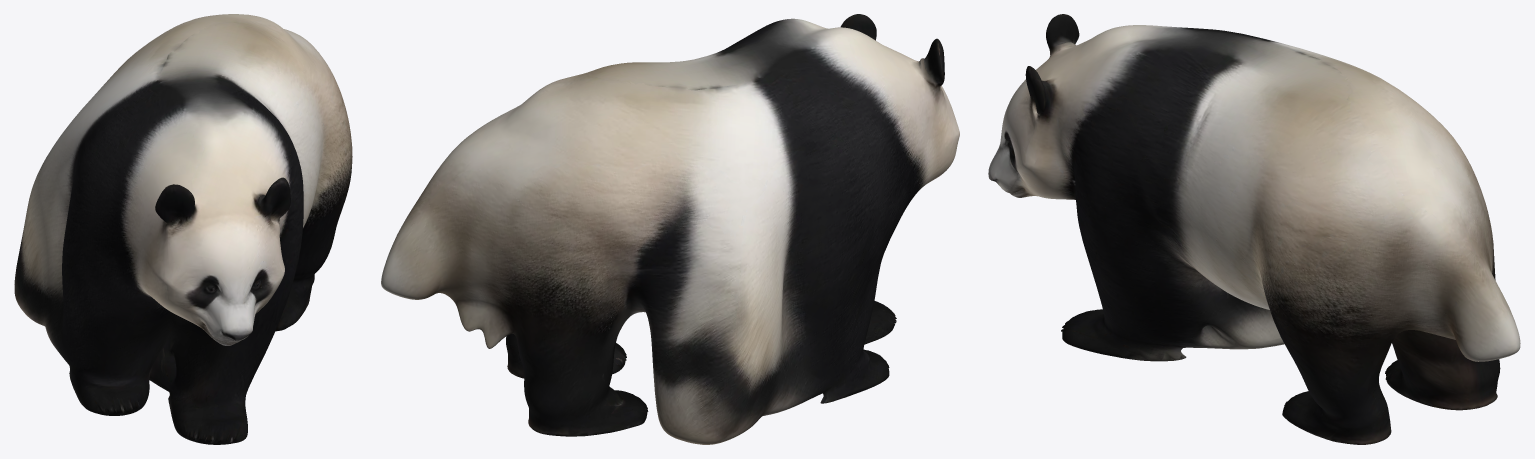
Rendered from giant-panda.glb.
3 views of the same model, side by side, from view 1: azimuth 30°, elevation 25°; view 2: azimuth 150°, elevation 25°; view 3: azimuth 270°, elevation 25° (orthographic). The views are drawn at different scales.
Visible parts, largest first — view 1: node_0; view 2: node_0; view 3: node_0.
Part boxes in pixels (box(x1,y1,x2,y2)): node_0: box(14, 14, 352, 444); node_0: box(381, 14, 959, 444); node_0: box(988, 14, 1520, 444).
Size of the model in its own units: 0.7596 by 0.6272 by 0.948.
Materials: 1 (1 with a texture image).
